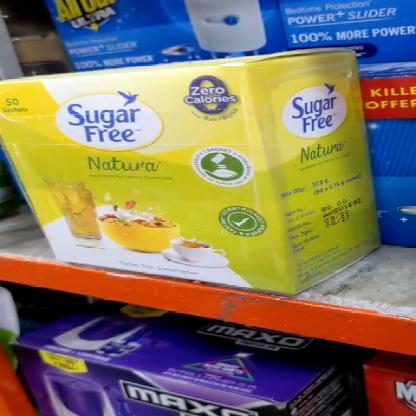SUGAR FREE NATURA SACHET 50: (0, 66, 261, 280)
